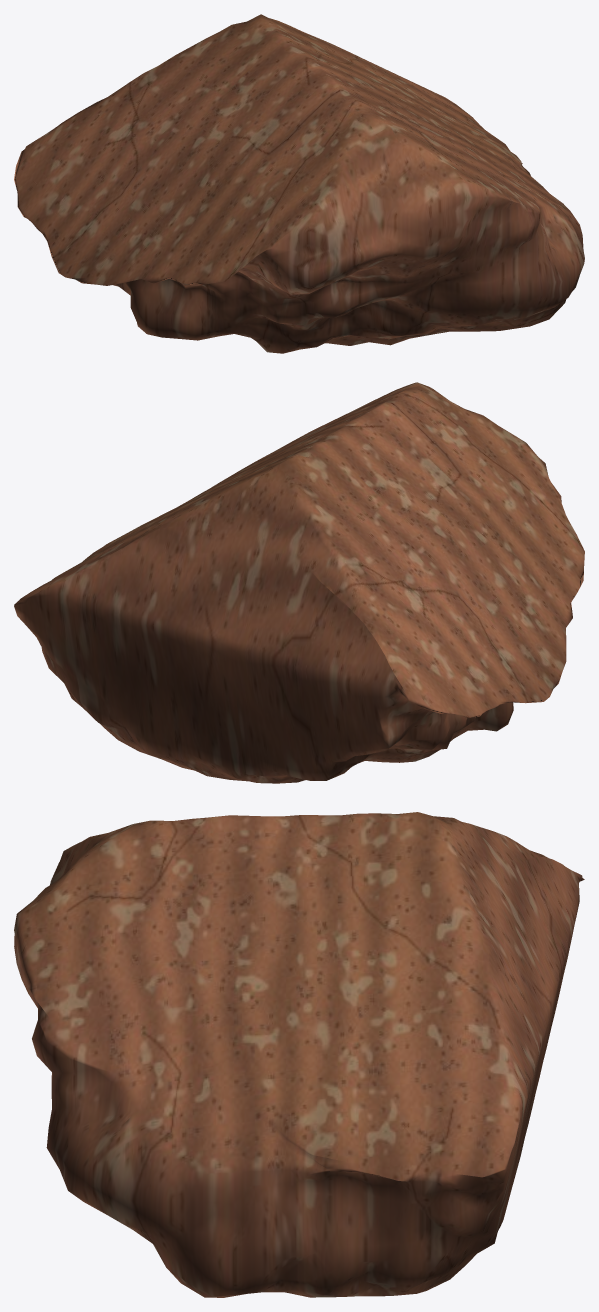
File: rock-redstone-0.full.glb
3 renders of one model, top to bottom at view 1: azimuth 30°, elevation 25°; view 2: azimuth 150°, elevation 25°; view 3: azimuth 270°, elevation 25°, orthographic. The views are drawn at different scales.
Visible parts, largest first — view 1: model; view 2: model; view 3: model.
Part boxes in pixels (x1,y1,x2,y2): model: [14, 14, 584, 353]; model: [14, 382, 584, 783]; model: [14, 812, 584, 1297].
Size of the model in its own units: 1 by 0.6443 by 0.8603.
1 material, 1 textured.
